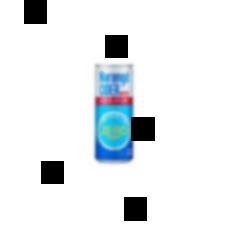narangdcider: (92, 62, 136, 164)
